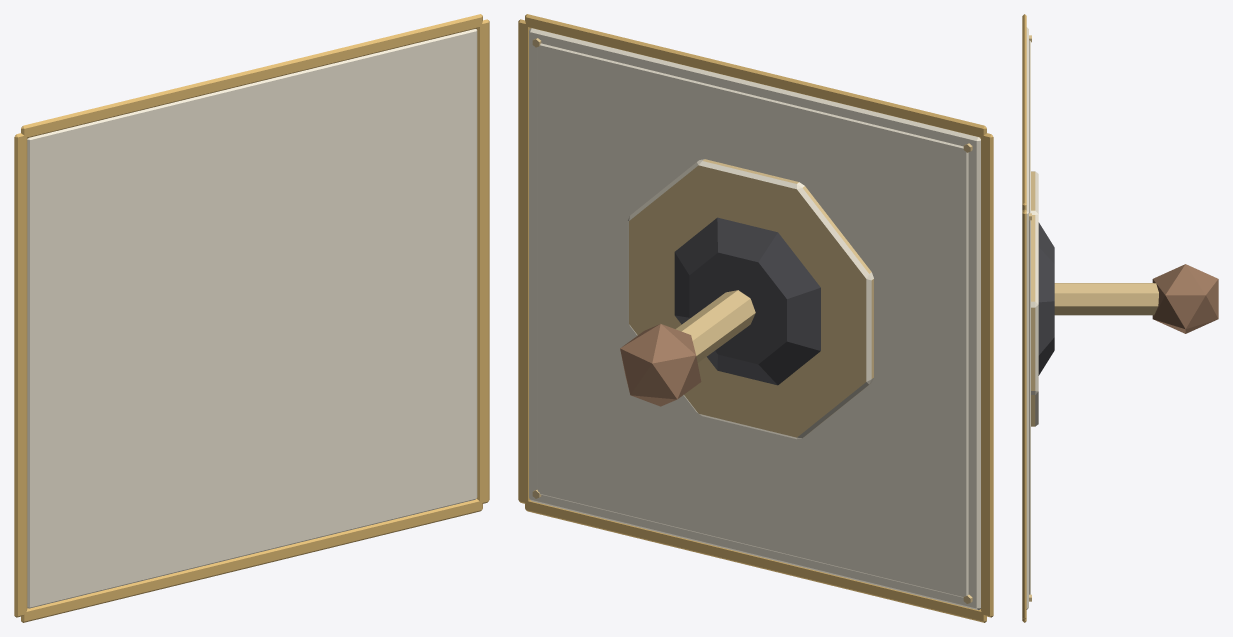
The model's file is Ctl_Joystick_2x2.fbx.
3 renders of one model, left to right at view 1: azimuth 30°, elevation 25°; view 2: azimuth 150°, elevation 25°; view 3: azimuth 270°, elevation 25°, orthographic. The views are drawn at different scales.
Parts seen in each view (by area): view 1: Ctl_Joystick_2x2, Ctl_Joystick_2x2_Frame; view 2: Ctl_Joystick_2x2, Ctl_Joystick_2x2_Frame, Moving.017; view 3: Ctl_Joystick_2x2, Moving.017, Ctl_Joystick_2x2_Frame.
Part boxes in pixels (left/top/right/bottom): Ctl_Joystick_2x2: left=27, top=29, right=477, bottom=608; Ctl_Joystick_2x2_Frame: left=14, top=14, right=489, bottom=622; Ctl_Joystick_2x2: left=529, top=28, right=980, bottom=610; Ctl_Joystick_2x2_Frame: left=518, top=14, right=993, bottom=622; Moving.017: left=620, top=290, right=755, bottom=406; Ctl_Joystick_2x2: left=1026, top=27, right=1054, bottom=609; Moving.017: left=1054, top=264, right=1218, bottom=333; Ctl_Joystick_2x2_Frame: left=1022, top=14, right=1026, bottom=622.
Size of the model in its own units: 2.16 by 2.16 by 0.9131.
